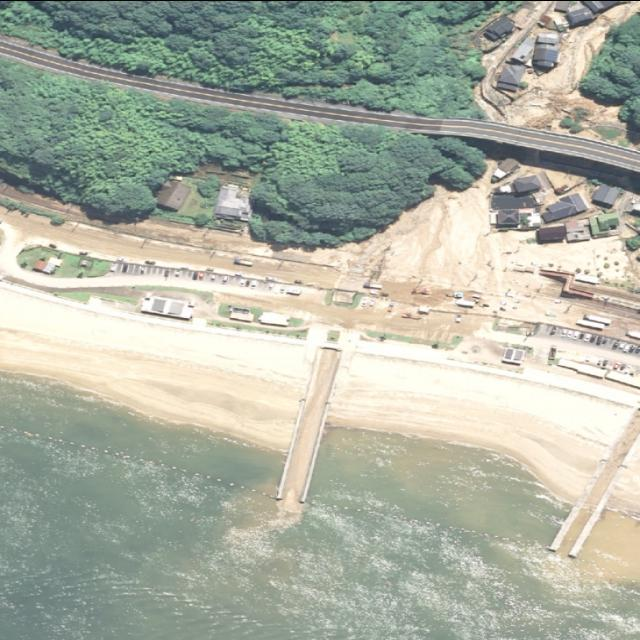landslide: (475, 0, 639, 146)
